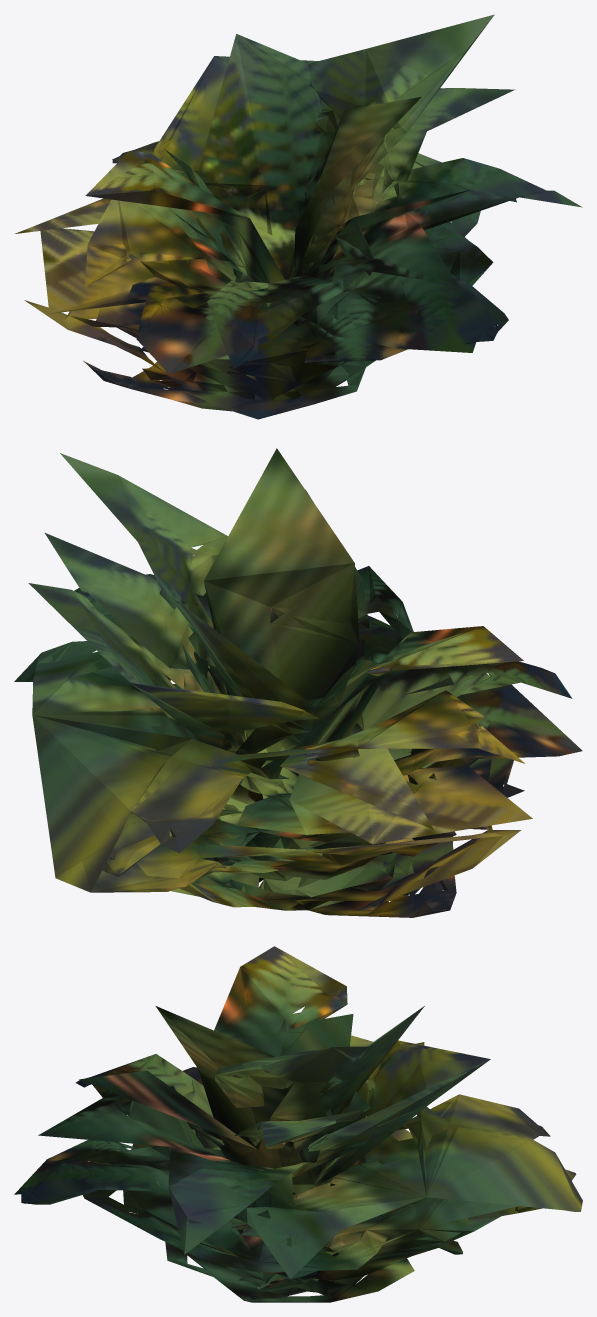
Rendered from fern.glb.
3 renders of one model, top to bottom at view 1: azimuth 30°, elevation 25°; view 2: azimuth 150°, elevation 25°; view 3: azimuth 270°, elevation 25°, orthographic. The views are drawn at different scales.
Parts seen in each view (by area): view 1: fern; view 2: fern; view 3: fern.
Part boxes in pixels (<box>): fern: <box>15,14,582,419</box>; fern: <box>14,448,582,917</box>; fern: <box>14,946,582,1302</box>.
Size of the model in its own units: 1.39 by 0.9 by 1.45.
1 material, 1 textured.
